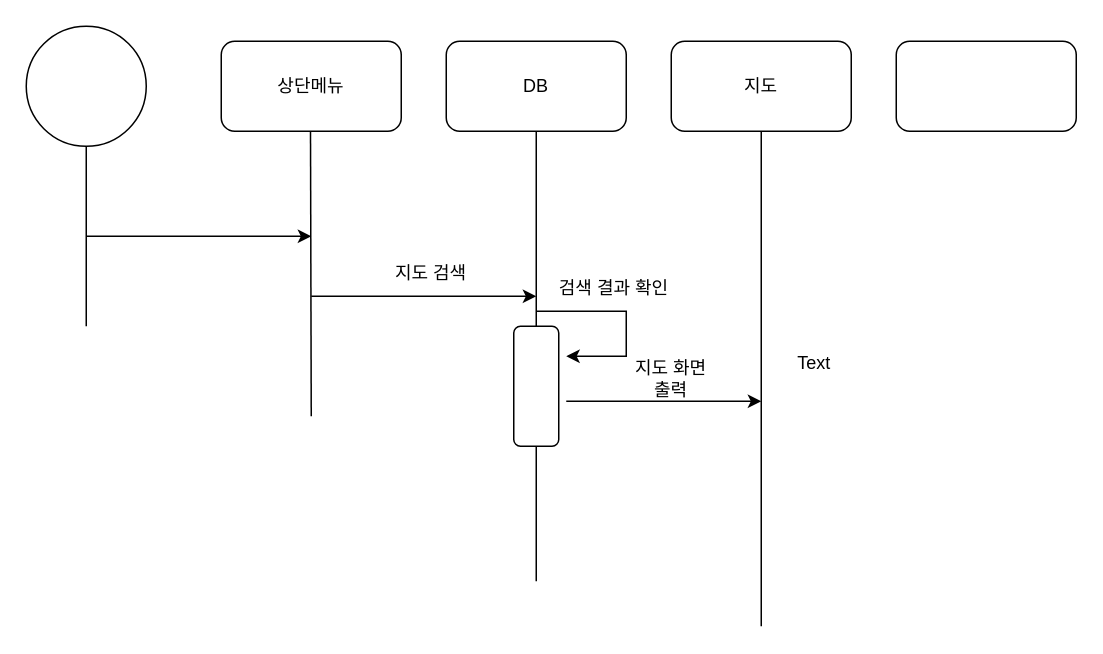
Image size: 1103x654. Some labels were removed from this diagram. The shapes that lost their labels are listed below. From the top down, each one's box as (x1, y1, x2, y2) in pixels, then its label:
(25, 25, 146, 146): 사용자
(895, 40, 1076, 131): 상세페이지
